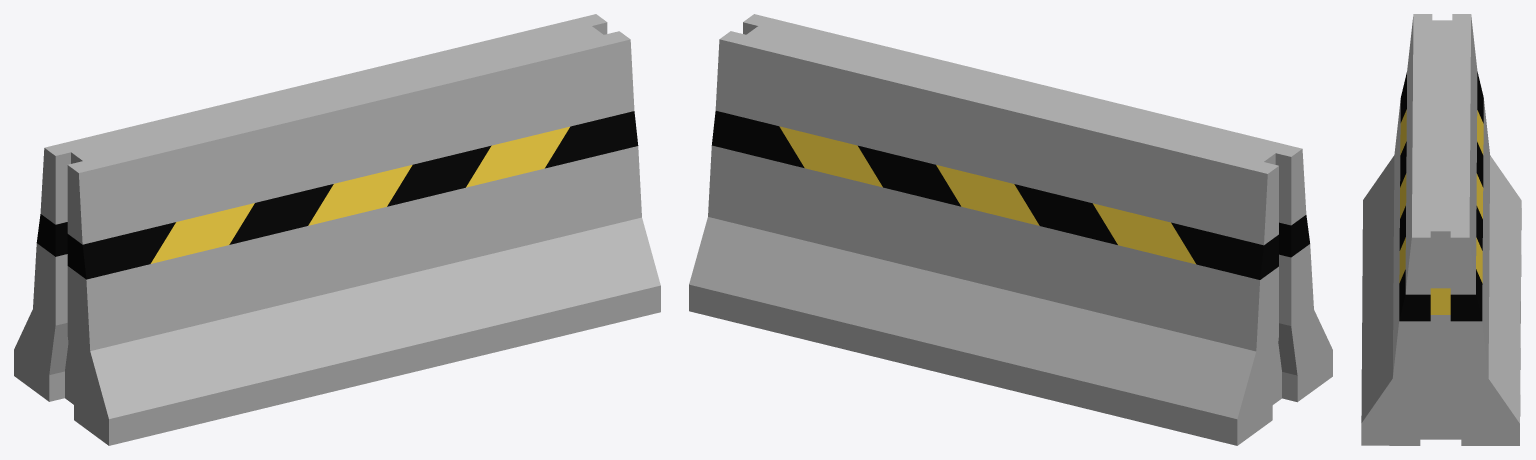
The model's file is barrier2.fbx.
The picture shows the model from 3 angles, left to right: view 1: azimuth 30°, elevation 25°; view 2: azimuth 150°, elevation 25°; view 3: azimuth 270°, elevation 25°; orthographic projection. The views are drawn at different scales.
Visible parts, largest first — view 1: barrier; view 2: barrier; view 3: barrier.
Boxes of the visible parts, x1,y1,x2,y2 form: barrier: (14,14,660,445); barrier: (689,14,1332,445); barrier: (1361,14,1521,445).
Bounding box in the file's own units: 281 × 122 × 84.88.
